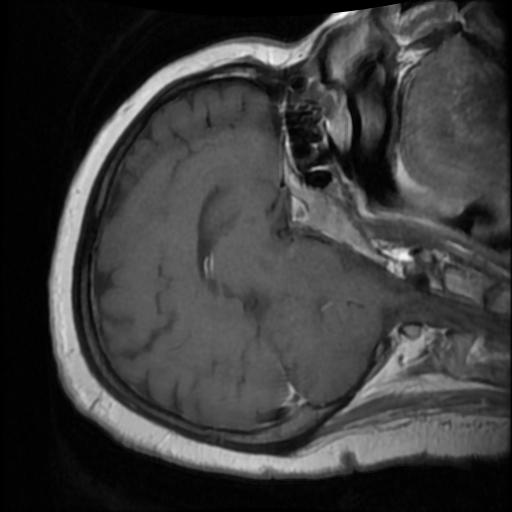pituitary tumour: (289, 194, 306, 223)
